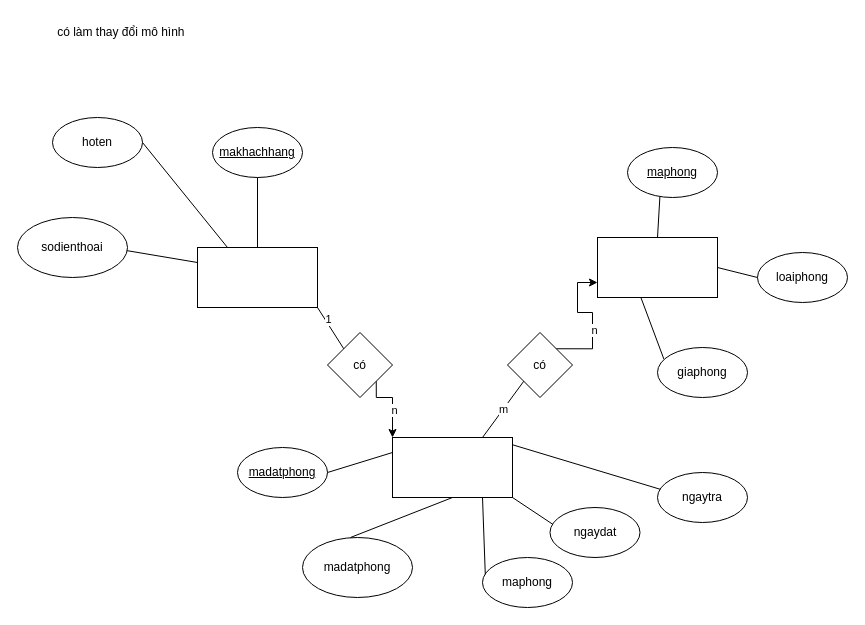
Some shapes in this 865 by 625 pixel diagram are drawn without their labels. Each missing label, with the centre of its shape:
datphong: (452,467)
khachhang: (257,277)
phong: (657,267)
